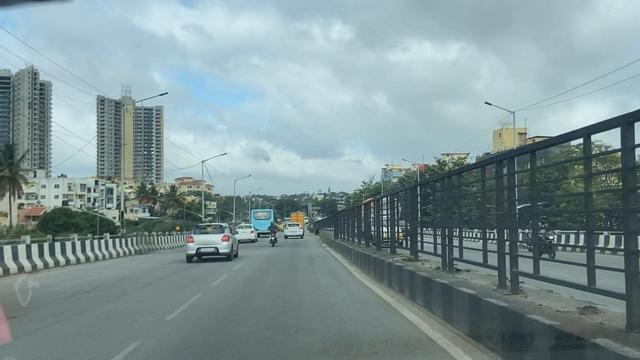HMV: (249, 203, 280, 246)
LMV: (183, 212, 240, 270), (260, 207, 287, 261), (281, 217, 309, 248), (234, 224, 260, 246)
